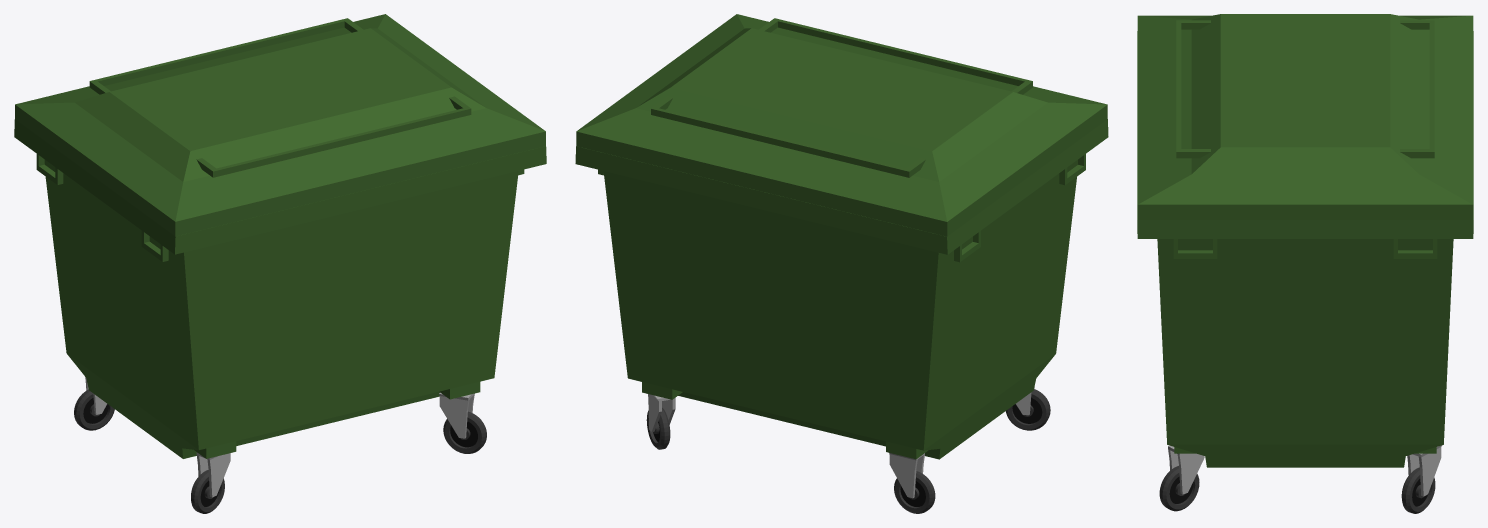
The model's file is prop_bin.glb.
3 renders of one model, left to right at view 1: azimuth 30°, elevation 25°; view 2: azimuth 150°, elevation 25°; view 3: azimuth 270°, elevation 25°, orthographic. The views are drawn at different scales.
Visible parts, largest first — view 1: garbage bin; view 2: garbage bin; view 3: garbage bin.
Part boxes in pixels (box(x1,y1,x2,y2)): garbage bin: box(14, 14, 546, 513); garbage bin: box(575, 14, 1108, 513); garbage bin: box(1137, 14, 1473, 513).
Bounding box in the file's own units: 3.06 × 2.75 × 2.29.
